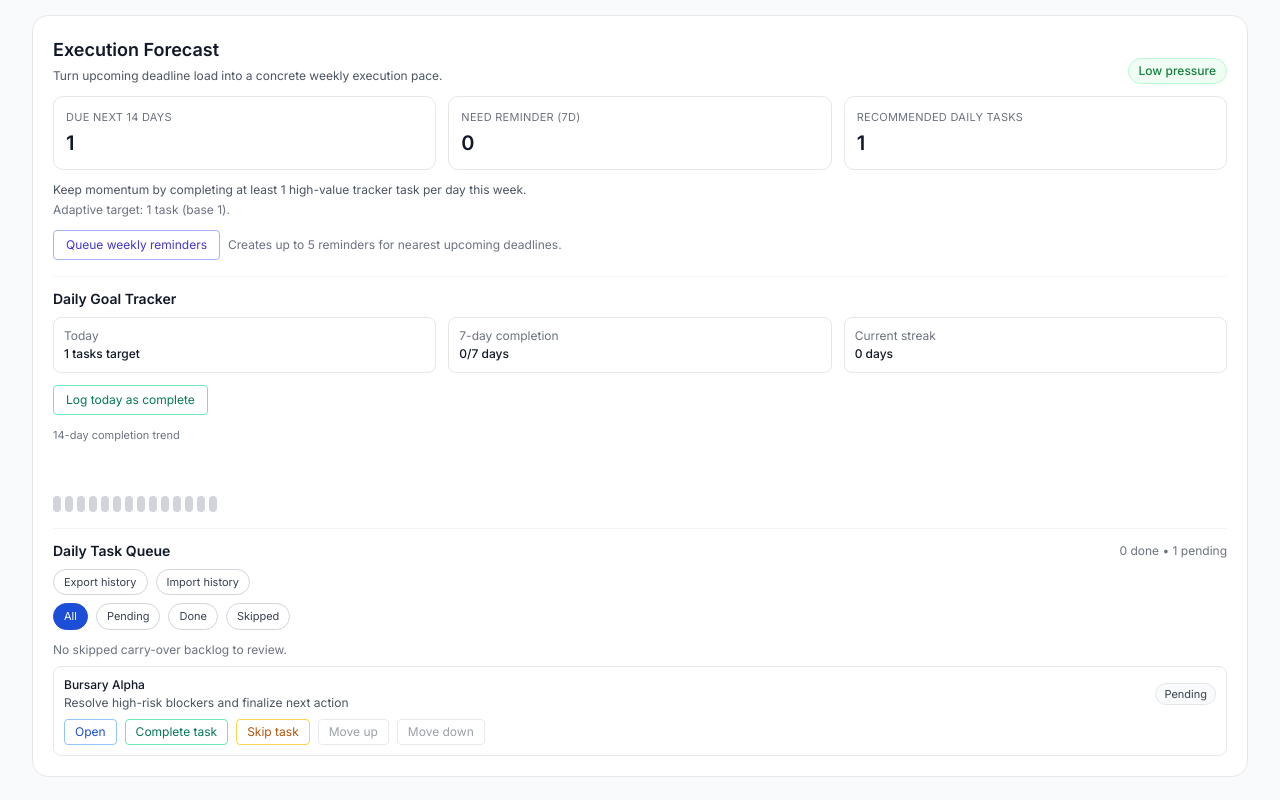
Test: ApplicationTracker phase 2.5 interactions › shows daily goal tracker and logs goal completion
The image size is (1280, 800).
(page scrolled)
Expected: the heading "Daily Goal Tracker" is shown, [53,290,176,307]
Expected: the text "7-day completion" is shown, [459,328,559,343]
Click the button "Log today as complete". click: click(130, 400)
box: [53,385,208,415]
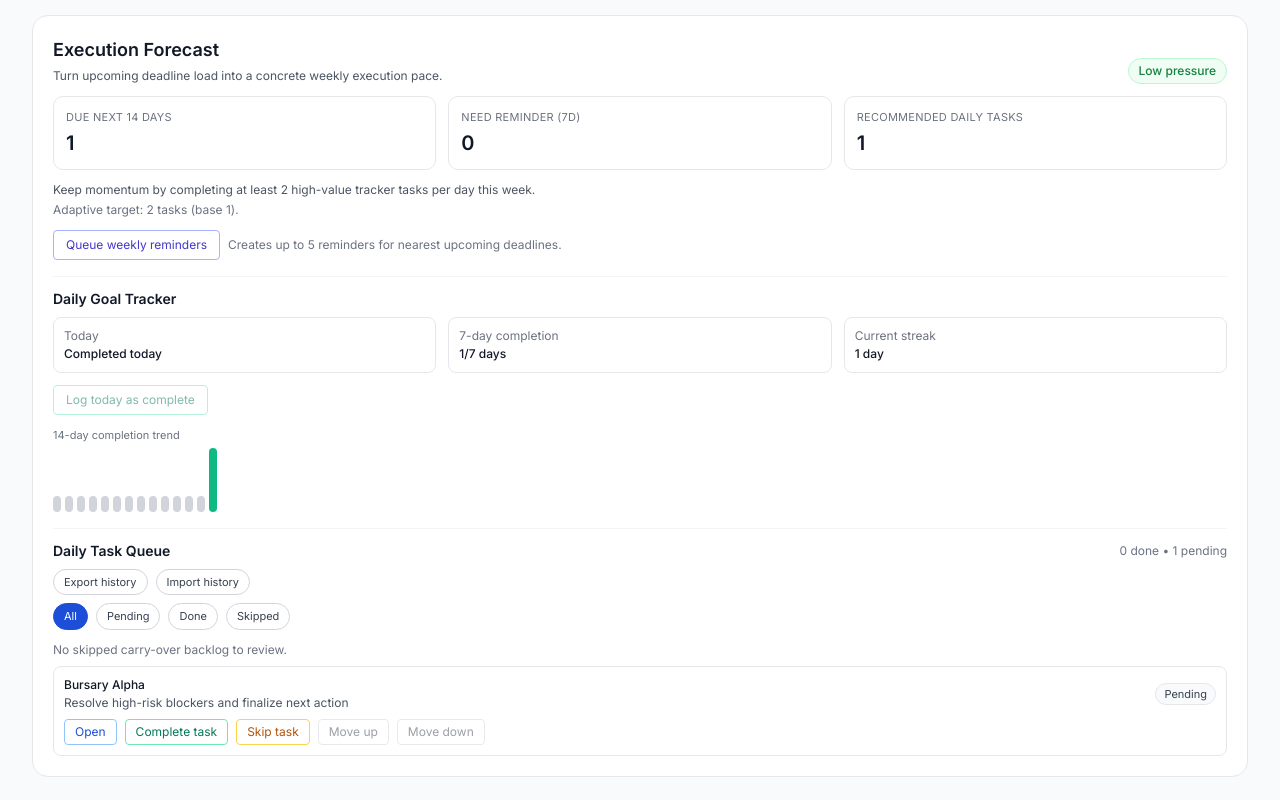
Now the text "Completed today" is shown, box [64,346,162,361]
Now the button "Log today as complete" is disabled, box [53,385,208,415]
